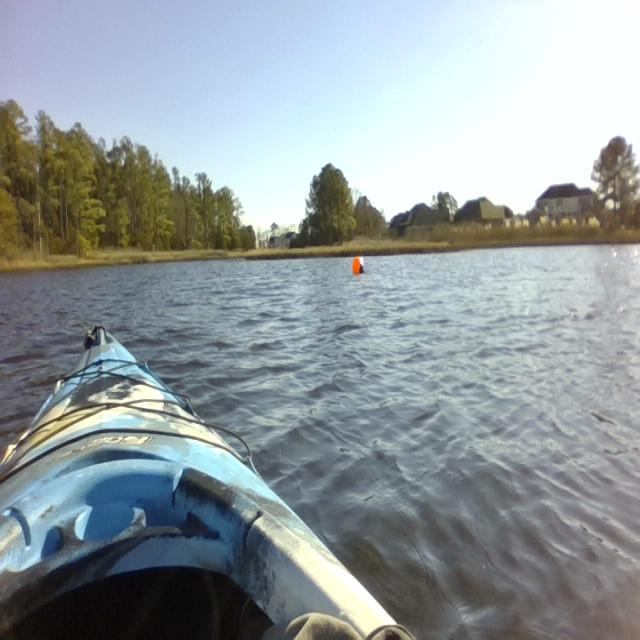Buoy: (348, 252, 368, 286)
